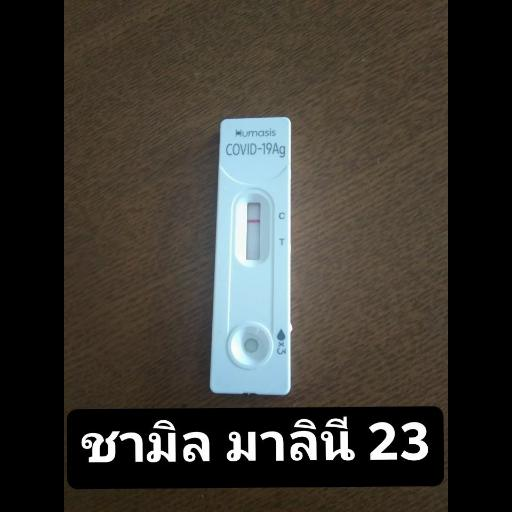Neg: (210, 116, 290, 396)
